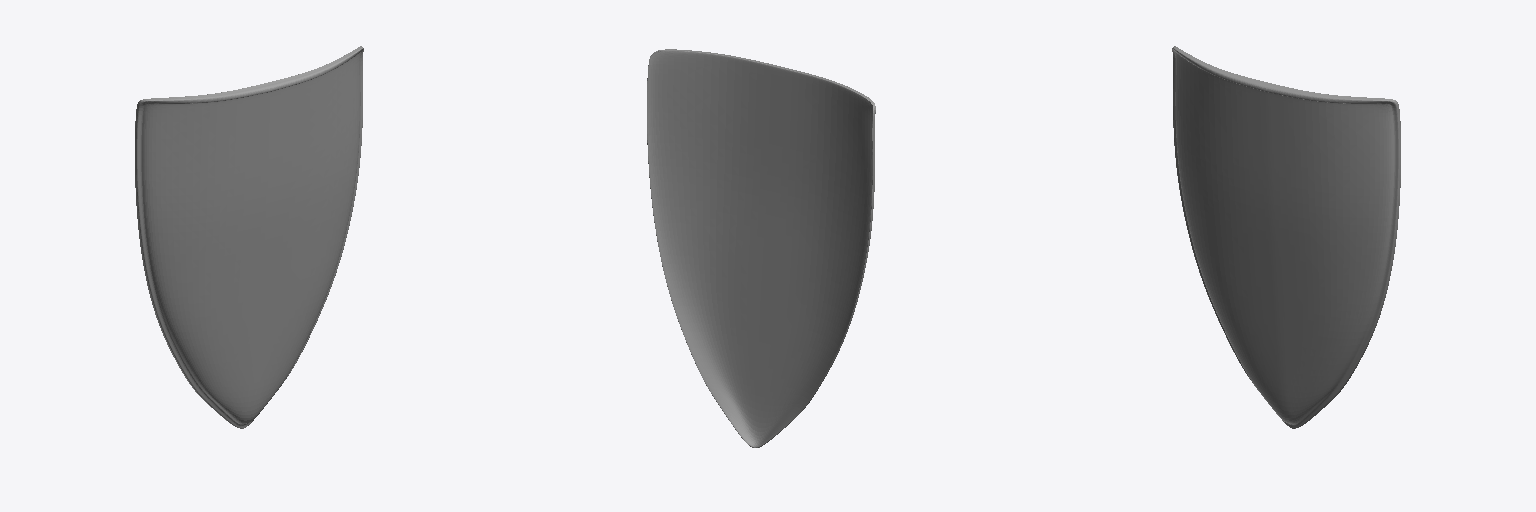
Rendered from shield.obj.
3 views of the same model, side by side, from view 1: azimuth 30°, elevation 25°; view 2: azimuth 150°, elevation 25°; view 3: azimuth 330°, elevation 25° (orthographic).
Visible parts, largest first — view 1: Cube_Cube.002; view 2: Cube_Cube.002; view 3: Cube_Cube.002.
Part boxes in pixels (left/top/right/bottom): Cube_Cube.002: left=135, top=46, right=363, bottom=428; Cube_Cube.002: left=647, top=49, right=875, bottom=447; Cube_Cube.002: left=1172, top=46, right=1400, bottom=428.
Bounding box in the file's own units: 0.7457 × 1.14 × 0.1673.